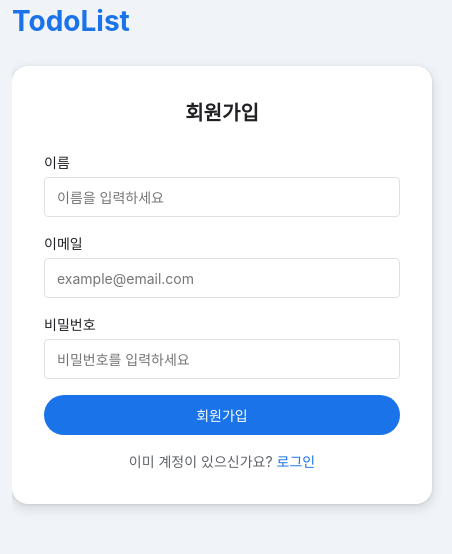
Scenario: SignupForm › 유효하지 않은 이메일 입력 시 클라이언트 검증 에러가 표시된다
Type "홍길동" into the field labelled "이름". click: [222, 197]
box: [44,177,400,217]
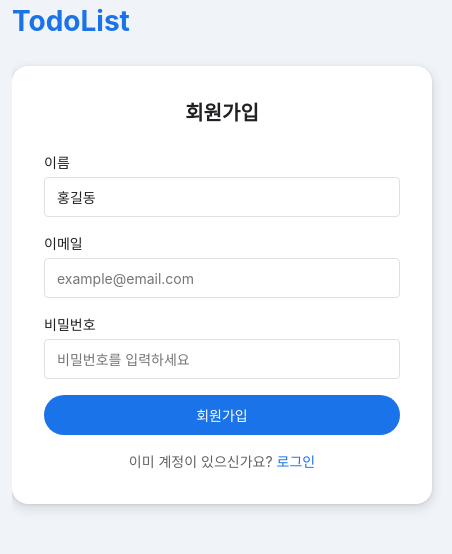
Type "invalid-email" into the field labelled "이메일". click: [222, 278]
box: [44,258,400,298]
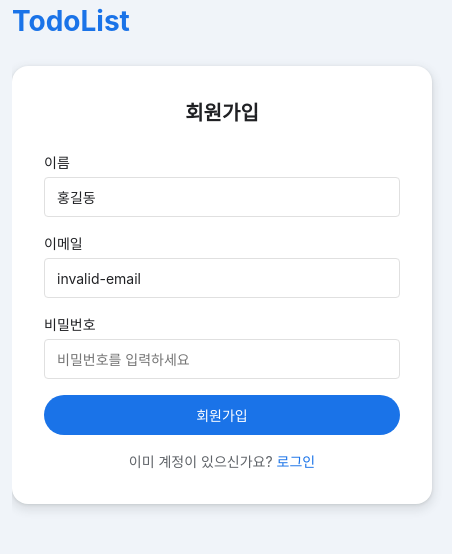
Type "pass1234" into the password field labelled "비밀번호". click: [222, 359]
box: [44,339,400,379]
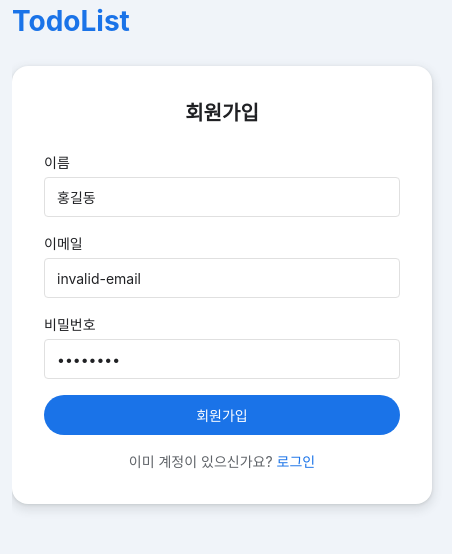
Submit the form, box [44,152,400,435]
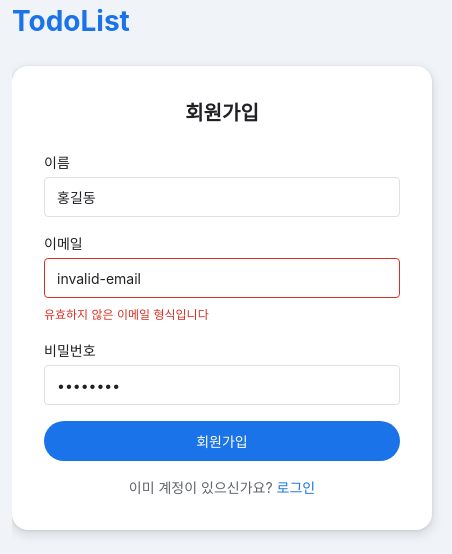
Result: the text "유효하지 않은 이메일 형식입니다" is shown at [44,307,209,322]
